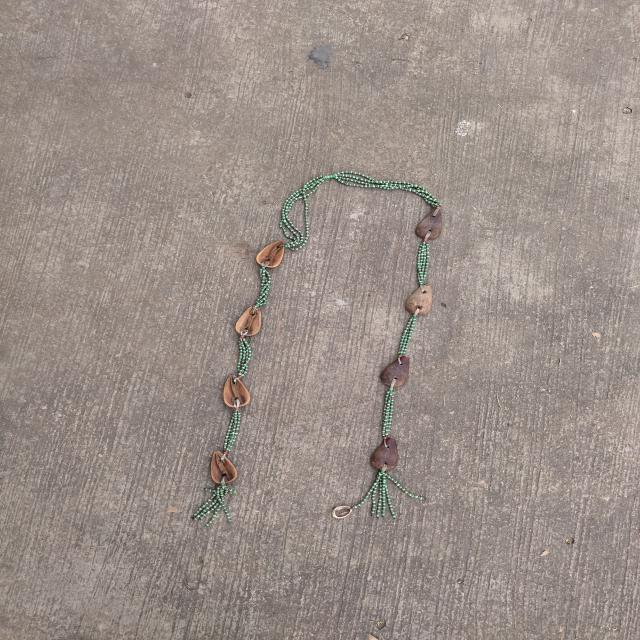facedown: (367, 433, 411, 479), (372, 348, 416, 391), (399, 276, 439, 321), (411, 200, 451, 244)
faceup: (214, 368, 260, 416), (201, 446, 246, 491), (232, 301, 274, 345), (253, 233, 294, 274)
